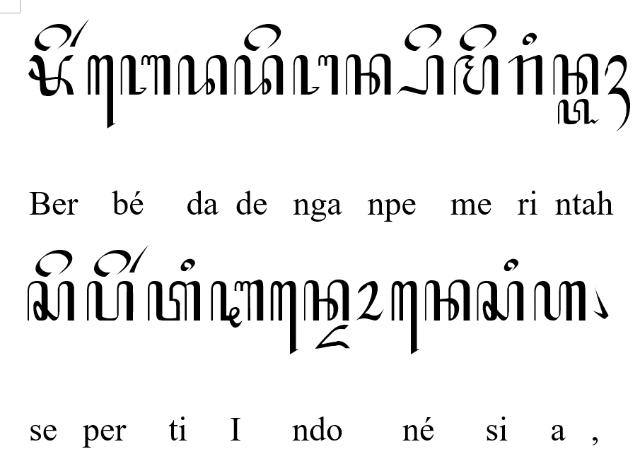B: (26, 54, 74, 96)
I: (208, 279, 264, 329)
_d: (314, 324, 350, 350)
_h1: (604, 54, 630, 130)
_p: (396, 54, 446, 95)
_r1: (69, 18, 91, 48), (129, 246, 149, 274)
_t: (557, 98, 599, 126)
b: (119, 54, 171, 95)
d: (178, 54, 228, 95), (233, 55, 283, 95)
e: (92, 249, 132, 279), (34, 22, 72, 52), (404, 22, 442, 52), (458, 24, 498, 52), (243, 23, 281, 51), (35, 250, 73, 278)
e1: (391, 280, 421, 356), (86, 55, 115, 129), (270, 280, 298, 356)
h: (532, 280, 588, 322)
i: (521, 32, 537, 46), (180, 258, 196, 272), (503, 260, 519, 272)
kom: (592, 287, 608, 321)
m: (454, 54, 501, 96)
n: (344, 52, 392, 96), (552, 53, 600, 97), (424, 278, 472, 322), (304, 280, 351, 322)
nga: (292, 53, 340, 97)
o: (356, 281, 384, 321)
p: (86, 280, 134, 322)
r: (508, 54, 544, 95)
s: (27, 281, 75, 323), (476, 280, 524, 322)
t: (146, 281, 202, 323)
